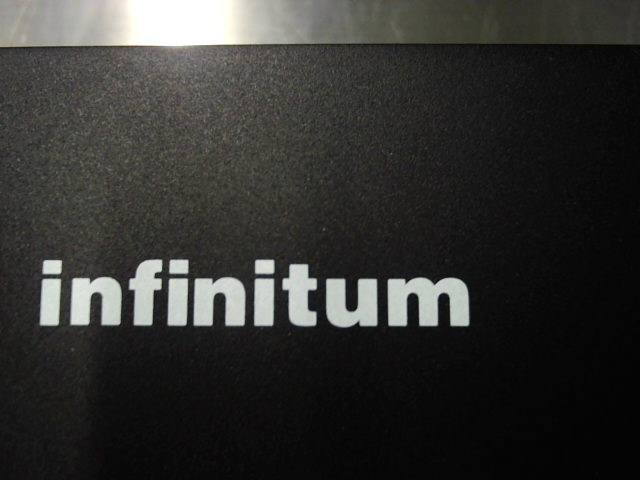BK_infinitum: (31, 250, 482, 340)
